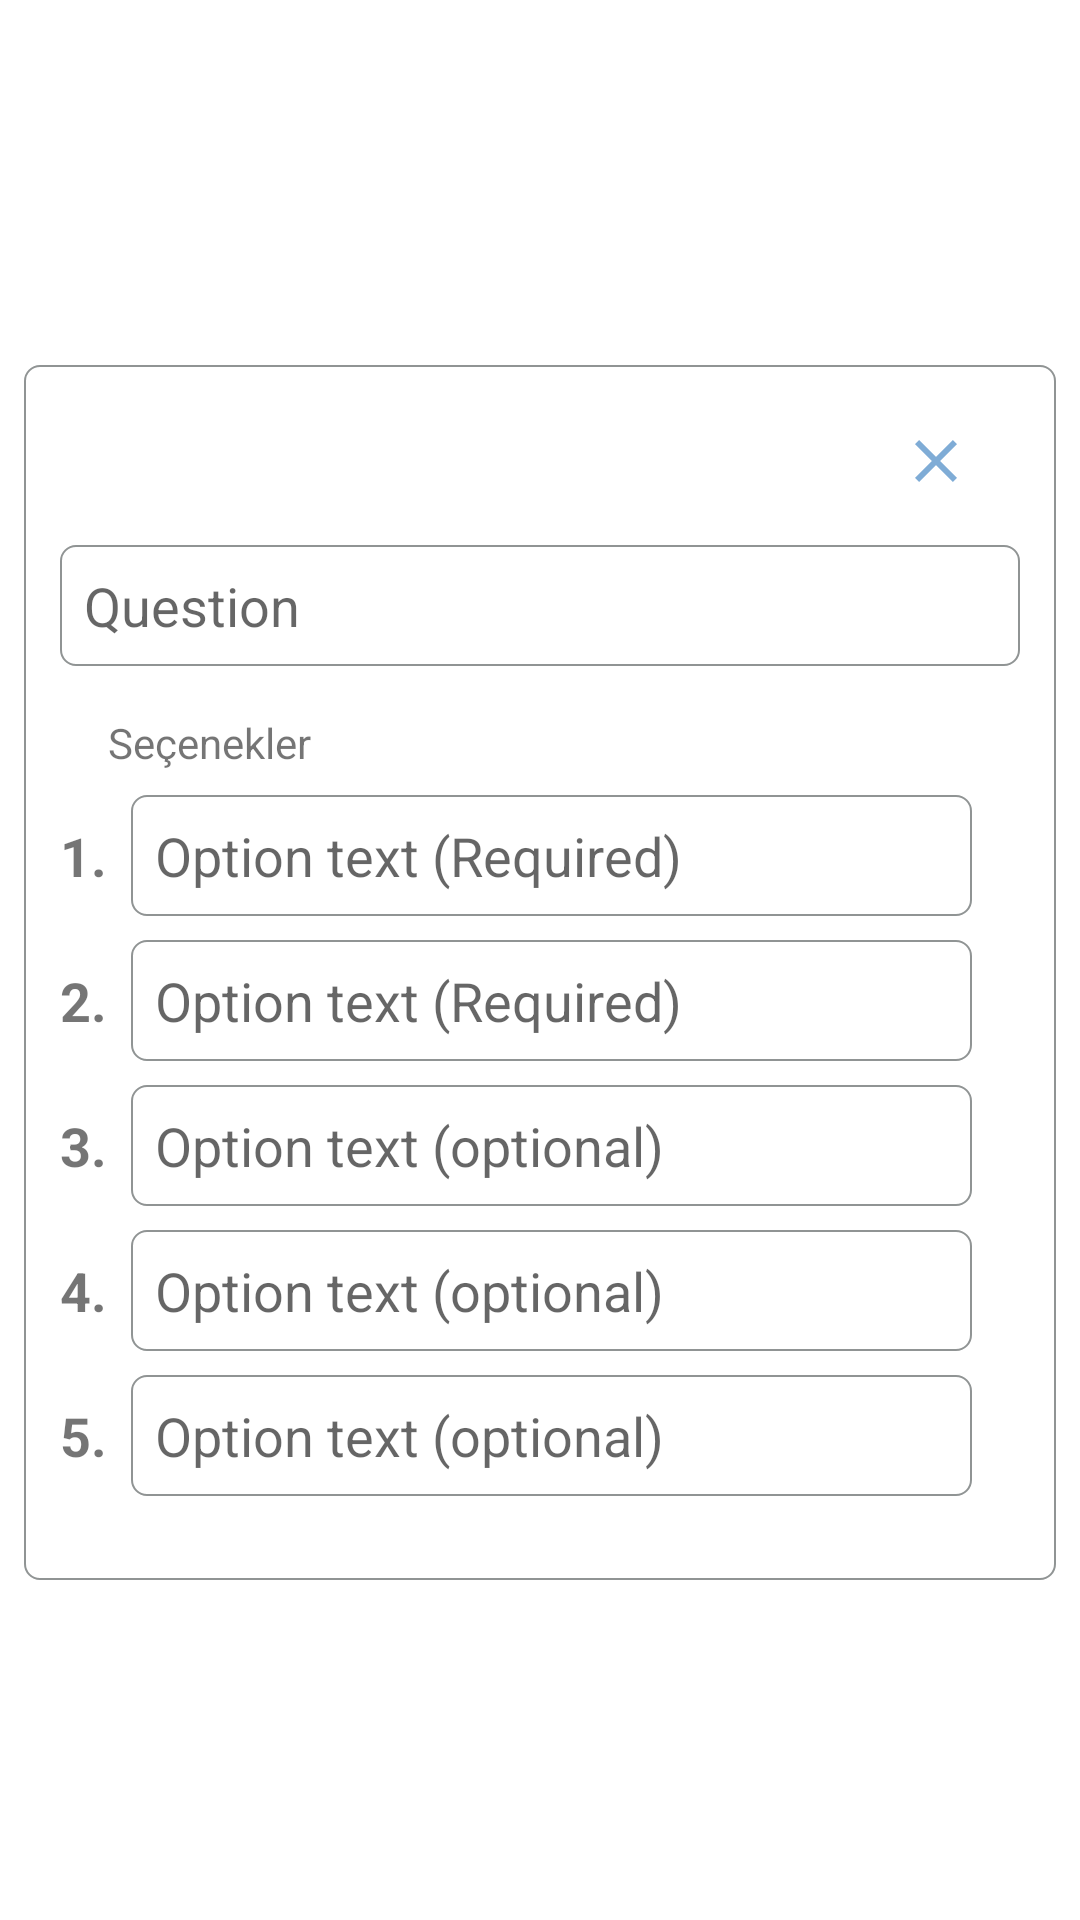

Where icons sit on this 1080px x 1920px app screen, as {"left": x1, "top": y1, "right": x2, "bottom": y2}:
close: {"left": 915, "top": 440, "right": 957, "bottom": 482}
